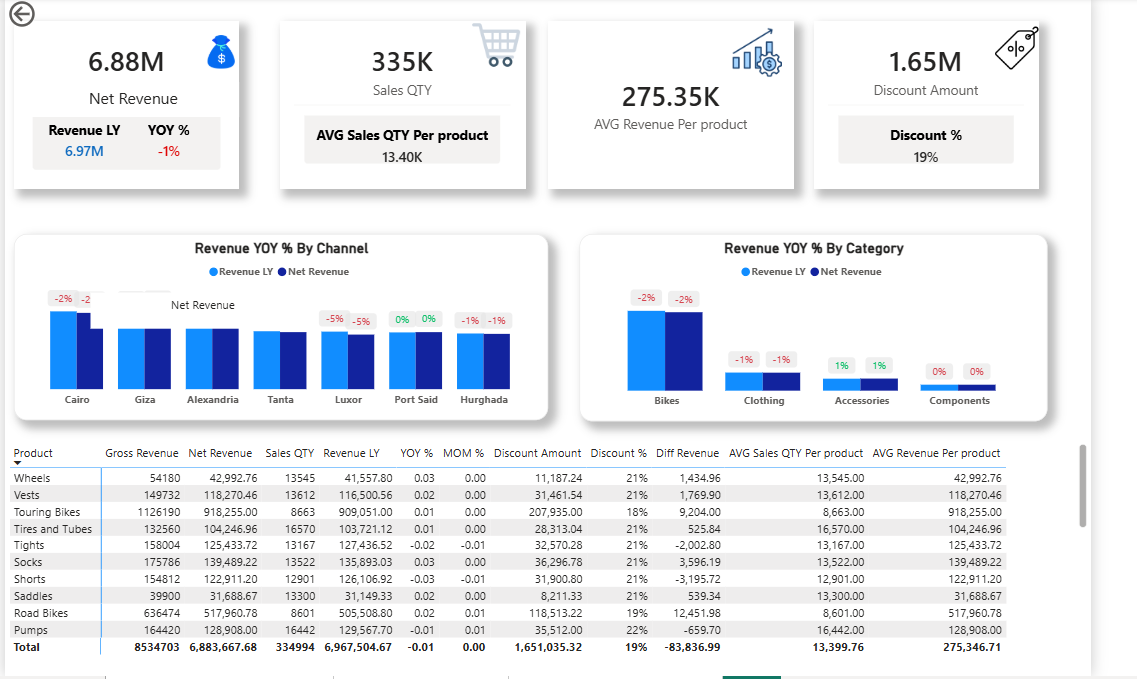

Layout of this report page (visuals, bound fields, positions):
{"tool":"powerbi","page":{"name":"Drill Through Page","canvas":[1280,800],"ordinal":2},"visuals":[{"type":"cardVisual","fields":{"Data":["MeasureT.Sales QTY"]},"box":[323.4,28.3,289.8,197.9],"z":0},{"type":"cardVisual","fields":{"Data":["MeasureT.Discount Amount"]},"box":[952.6,28.3,265.1,197.9],"z":1000},{"type":"clusteredColumnChart","title":" Revenue YOY % By Channel","fields":{"Y":["MeasureT.Revenue LY","MeasureT.Net Revenue"],"Category":["Dim Region.Region"]},"box":[10.6,279.2,629.2,219.2],"z":2000},{"type":"actionButton","box":[0,0,100,40],"z":3000},{"type":"pivotTable","fields":{"Rows":["Dim Product.Product"],"Values":["MeasureT.Gross Revenue","MeasureT.Net Revenue","MeasureT.Sales QTY","MeasureT.Revenue LY","MeasureT.YOY %","MeasureT.MOM %","MeasureT.Discount Amount","MeasureT.Discount %","MeasureT.Diff Revenue","MeasureT.AVG Sales QTY Per product","MeasureT.AVG Revenue Per product"]},"box":[0,521.4,1279.6,258],"z":4000},{"type":"cardVisual","fields":{"Data":["MeasureT.AVG Revenue Per product"]},"box":[639.8,28.3,289.8,197.9],"z":5000},{"type":"clusteredColumnChart","title":" Revenue YOY % By Category","fields":{"Y":["MeasureT.Revenue LY","MeasureT.Net Revenue"],"Category":["Dim Product.Category"]},"box":[676.9,279.2,551.4,220.9],"z":6000},{"type":"cardVisual","fields":{"Data":["MeasureT.Net Revenue"]},"box":[10.6,28.3,265.1,197.9],"z":7000},{"type":"textbox","box":[100.7,348.2,265.1,42.4],"z":8000},{"type":"textbox","box":[26.5,100.7,249.2,40.6],"z":9000},{"type":"image","box":[233.3,28.3,42.4,72.5],"z":10000},{"type":"image","box":[544.3,28.3,68.9,56.6],"z":11000},{"type":"image","box":[1166.4,19.4,51.3,81.3],"z":11001},{"type":"image","box":[843,35.3,86.6,60.1],"z":11002}]}

Visuals, with their boxes on the page's 1280x800 design canvas (x1, y1, x2, y2). These are canvas units, not pixel positions in the 1137x679 screenshot, which may show the page scaled, cropped or inside an application window:
cardVisual - MeasureT.Sales QTY: Rect(323, 28, 613, 226)
cardVisual - MeasureT.Discount Amount: Rect(953, 28, 1218, 226)
" Revenue YOY % By Channel" clusteredColumnChart: Rect(11, 279, 640, 498)
actionButton: Rect(0, 0, 100, 40)
pivotTable - Dim Product.Product x MeasureT.Gross Revenue: Rect(0, 521, 1280, 779)
cardVisual - MeasureT.AVG Revenue Per product: Rect(640, 28, 930, 226)
" Revenue YOY % By Category" clusteredColumnChart: Rect(677, 279, 1228, 500)
cardVisual - MeasureT.Net Revenue: Rect(11, 28, 276, 226)
textbox: Rect(101, 348, 366, 391)
textbox: Rect(26, 101, 276, 141)
image: Rect(233, 28, 276, 101)
image: Rect(544, 28, 613, 85)
image: Rect(1166, 19, 1218, 101)
image: Rect(843, 35, 930, 95)
